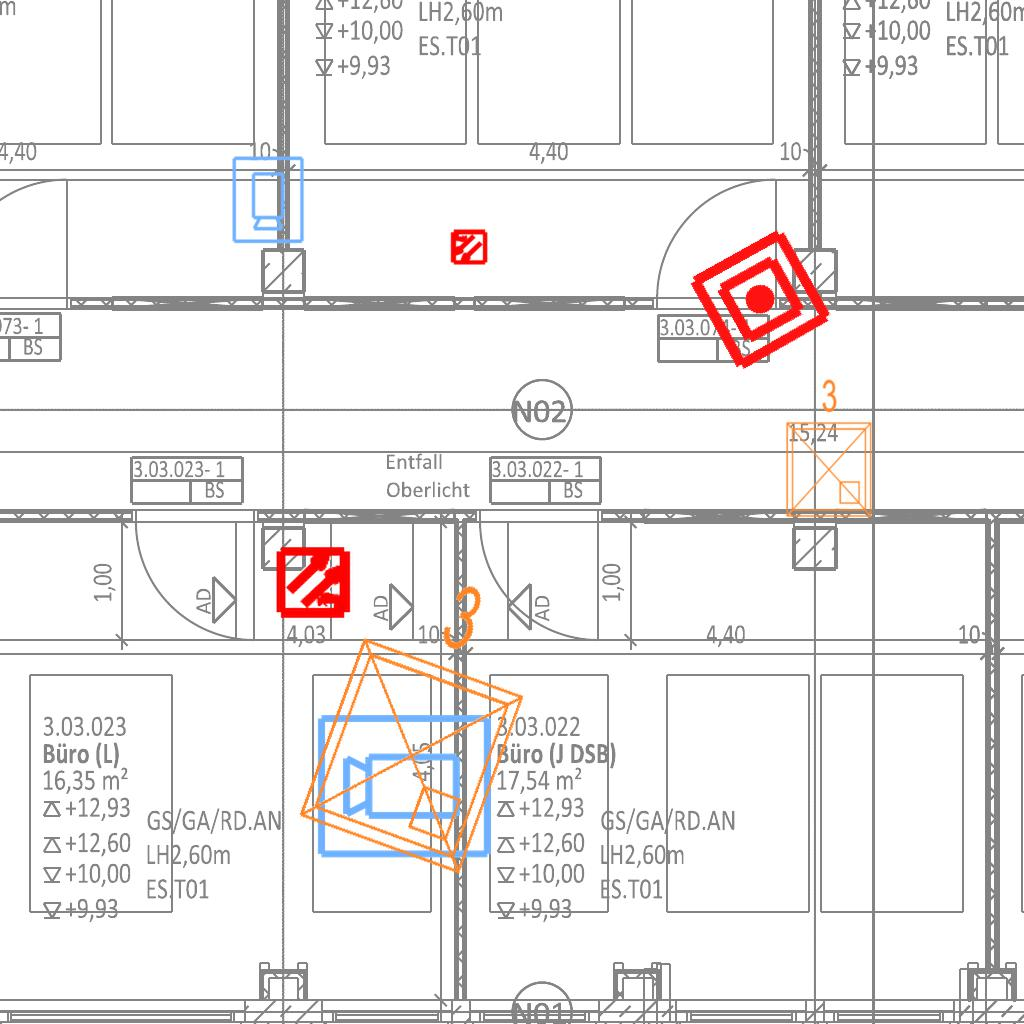Einbaudownlights_LED_Konferenzraeume: (272, 539, 572, 893), (775, 374, 879, 524)
KFO_Kamera_mit_Festobjektiv: (314, 708, 496, 862), (229, 154, 306, 245)
NAM-Nichtautomatischer_Melder: (683, 222, 838, 377)
OT_Multisensormelder_(Kombination_RMO_WMD): (259, 526, 372, 639), (440, 219, 496, 275)
